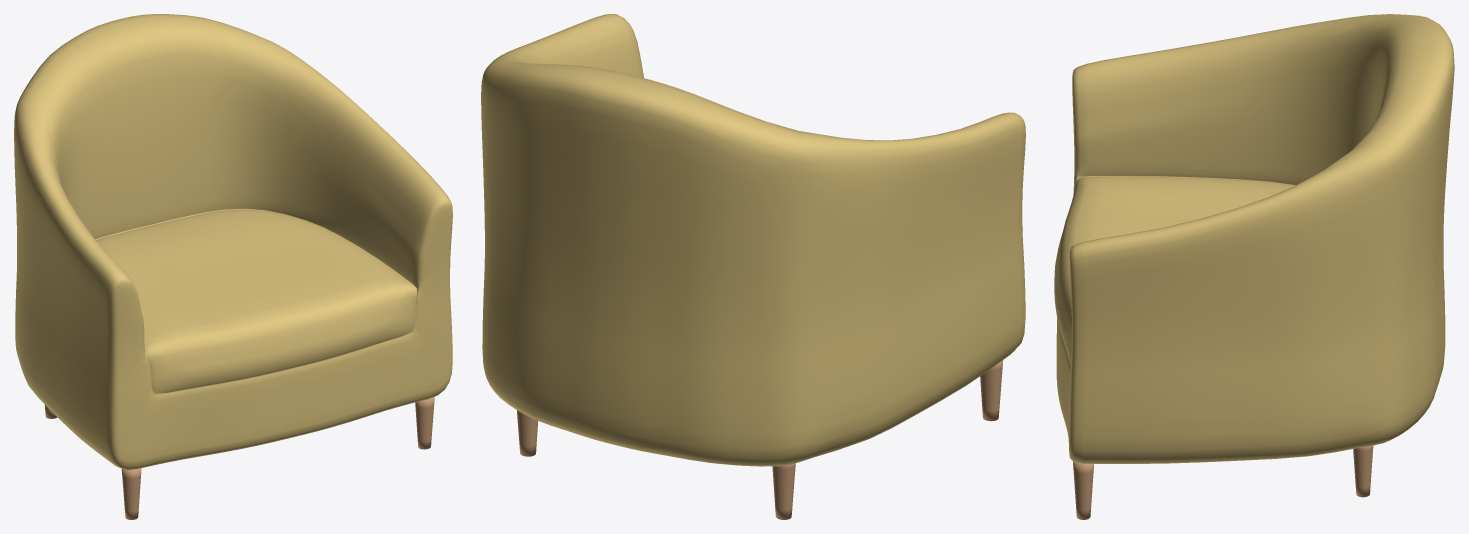
File: sofa1#49.fbx
The picture shows the model from 3 angles, left to right: view 1: azimuth 30°, elevation 25°; view 2: azimuth 150°, elevation 25°; view 3: azimuth 270°, elevation 25°; orthographic projection. The views are drawn at different scales.
Visible parts, largest first — view 1: Loft02, Object01; view 2: Loft02, Object01; view 3: Loft02, Object01.
Part boxes in pixels (x1=…): Loft02: x1=14, y1=14, x2=452, y2=470; Object01: x1=44, y1=397, x2=434, y2=519; Loft02: x1=481, y1=14, x2=1025, y2=466; Object01: x1=517, y1=360, x2=1003, y2=519; Loft02: x1=1054, y1=14, x2=1454, y2=463; Object01: x1=1073, y1=445, x2=1373, y2=519.
Bounding box in the file's own units: 1.99 × 1.92 × 1.78.
